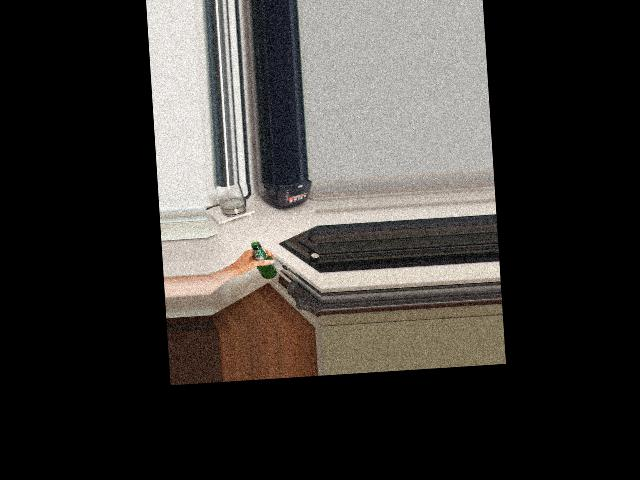beer: (250, 240, 277, 280)
